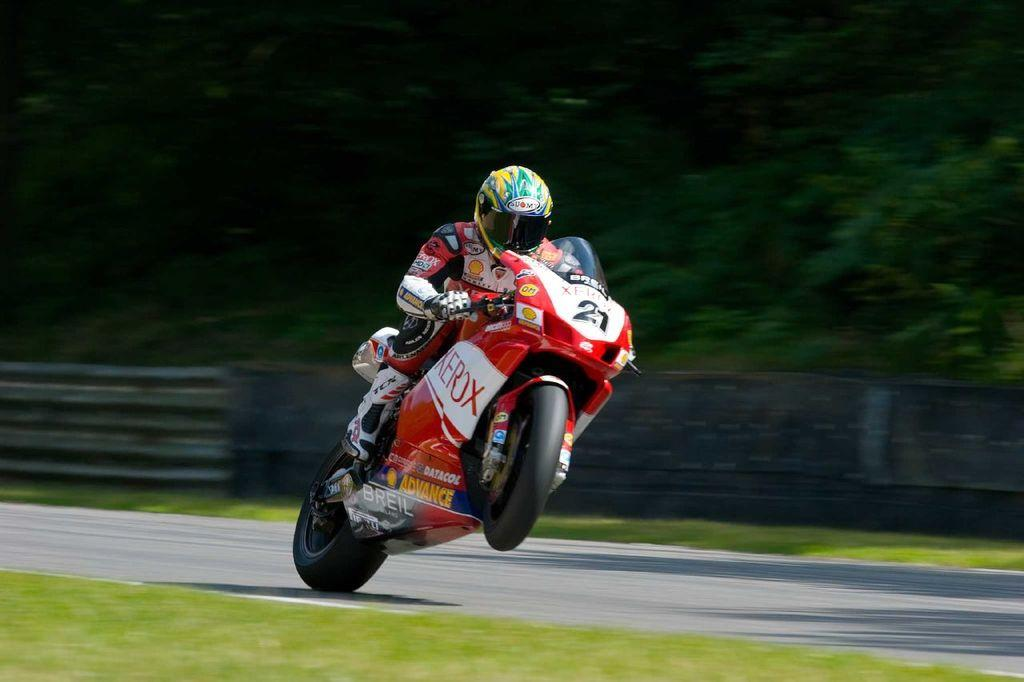helmet: (474, 165, 553, 262)
